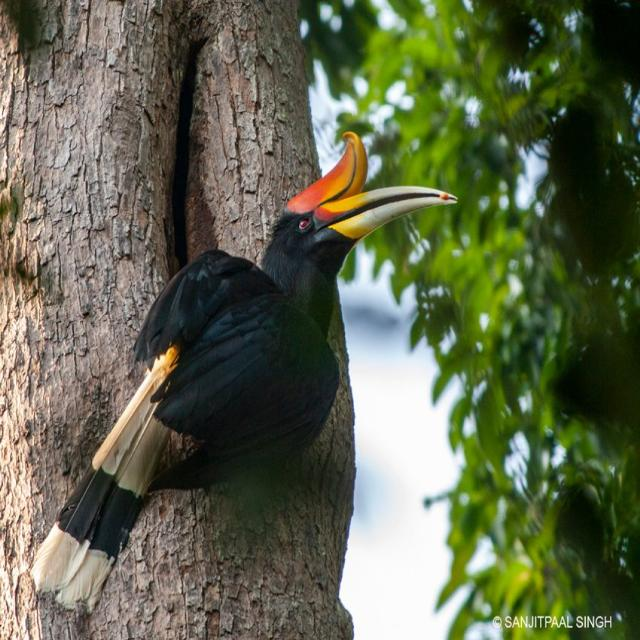Hornbill: (45, 127, 457, 592)
